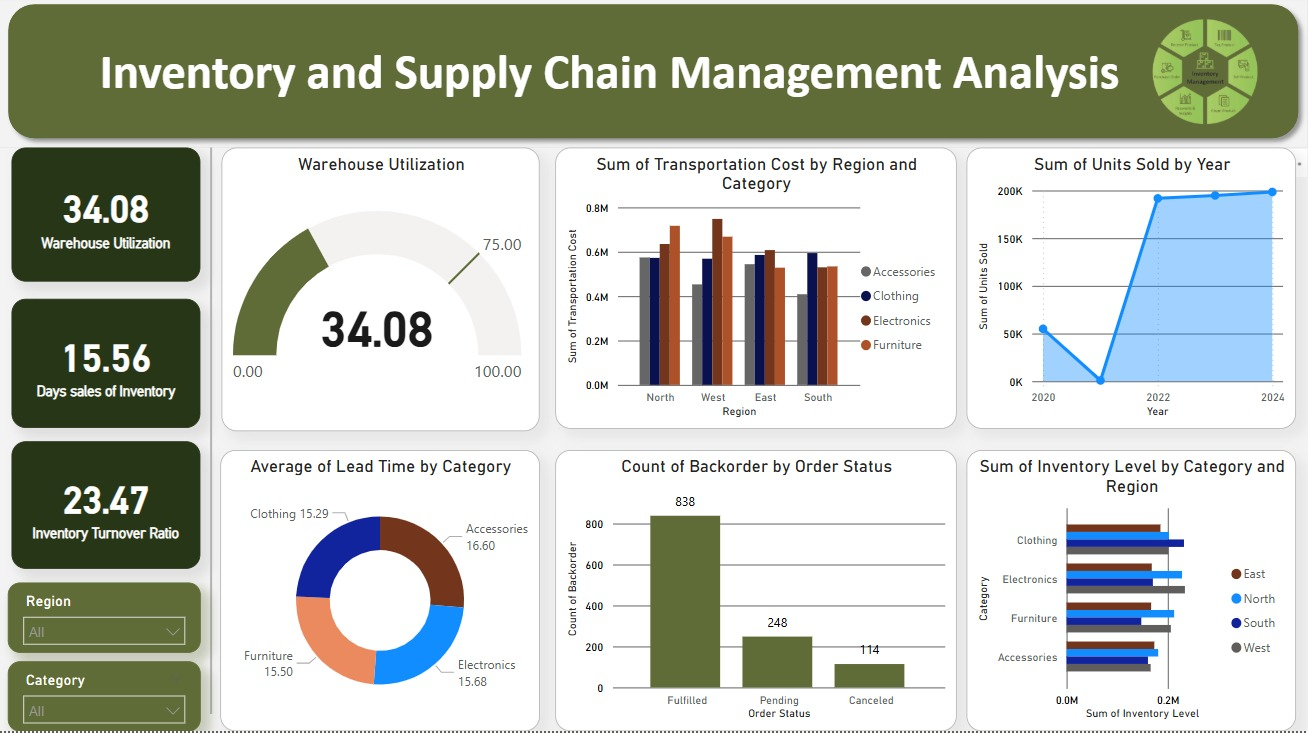

This screenshot's page, from the dashboard's own definition file:
{"tool":"powerbi","page":{"name":"Page 1","canvas":[1280,720],"ordinal":0},"visuals":[{"type":"shape","box":[0,0,1280.3,149.3],"z":0},{"type":"textbox","box":[12.1,40.3,1170,68.6],"z":1000},{"type":"image","box":[1079.9,0,200.4,149.3],"z":2000},{"type":"shape","box":[197.7,149.3,18.8,554.1],"z":3000},{"type":"card","fields":{"Values":["Inventory_SupplyChain_Dataset.Warehouse Utilization"]},"box":[12.5,148.8,185,131.2],"z":4000},{"type":"card","fields":{"Values":["Inventory_SupplyChain_Dataset.Days sales of Inventory"]},"box":[12.5,297.5,185,126.2],"z":5000},{"type":"card","fields":{"Values":["Inventory_SupplyChain_Dataset.Inventory Turnover Ratio"]},"box":[12.5,436.2,185,125],"z":6000},{"type":"slicer","fields":{"Values":["Inventory_SupplyChain_Dataset.Region"]},"box":[8.8,575,188.8,68.8],"z":7000},{"type":"slicer","fields":{"Values":["Inventory_SupplyChain_Dataset.Category"]},"box":[8.8,651.2,188.8,68.8],"z":8000},{"type":"gauge","fields":{"Y":["Inventory_SupplyChain_Dataset.Warehouse Utilization"]},"box":[217.5,148.8,311.2,277.5],"z":9000},{"type":"clusteredColumnChart","fields":{"Y":["Sum(Inventory_SupplyChain_Dataset.Transportation Cost)"],"Category":["Inventory_SupplyChain_Dataset.Region"],"Series":["Inventory_SupplyChain_Dataset.Category"]},"box":[543.8,148.8,392.5,275],"z":10000},{"type":"lineChart","fields":{"Y":["Sum(Inventory_SupplyChain_Dataset.Units Sold)"],"Category":["Inventory_SupplyChain_Dataset.Date.Variation.Date Hierarchy.Year"]},"box":[946.2,148.8,322.5,275],"z":11000},{"type":"donutChart","fields":{"Y":["Avg(Inventory_SupplyChain_Dataset.Lead Time)"],"Category":["Inventory_SupplyChain_Dataset.Category"]},"box":[216.2,445,312.5,275],"z":12000},{"type":"columnChart","fields":{"Y":["CountNonNull(Inventory_SupplyChain_Dataset.Backorder)"],"Category":["Inventory_SupplyChain_Dataset.Order Status"]},"box":[543.8,445,392.5,275],"z":13000},{"type":"clusteredBarChart","fields":{"Y":["Sum(Inventory_SupplyChain_Dataset.Inventory Level)"],"Category":["Inventory_SupplyChain_Dataset.Category"],"Series":["Inventory_SupplyChain_Dataset.Region"]},"box":[946.2,445,322.5,275],"z":13001}]}

Visuals, with their boxes in screenshot pixels (x1, y1, x2, y2), scaled from the page's 1280x720 canvas onto the 1308x733 screenshot:
shape: Rect(0, 0, 1307, 152)
textbox: Rect(12, 41, 1208, 111)
image: Rect(1104, 0, 1307, 152)
shape: Rect(202, 152, 221, 716)
card - Inventory_SupplyChain_Dataset.Warehouse Utilization: Rect(13, 151, 202, 285)
card - Inventory_SupplyChain_Dataset.Days sales of Inventory: Rect(13, 303, 202, 431)
card - Inventory_SupplyChain_Dataset.Inventory Turnover Ratio: Rect(13, 444, 202, 571)
slicer - Inventory_SupplyChain_Dataset.Region: Rect(9, 585, 202, 655)
slicer - Inventory_SupplyChain_Dataset.Category: Rect(9, 663, 202, 732)
gauge - Inventory_SupplyChain_Dataset.Warehouse Utilization: Rect(222, 151, 540, 434)
clusteredColumnChart - Sum(Inventory_SupplyChain_Dataset.Transportation Cost) x Inventory_SupplyChain_Dataset.Region: Rect(556, 151, 957, 431)
lineChart - Sum(Inventory_SupplyChain_Dataset.Units Sold) x Inventory_SupplyChain_Dataset.Date.Variation.Date Hierarchy.Year: Rect(967, 151, 1296, 431)
donutChart - Avg(Inventory_SupplyChain_Dataset.Lead Time) x Inventory_SupplyChain_Dataset.Category: Rect(221, 453, 540, 732)
columnChart - CountNonNull(Inventory_SupplyChain_Dataset.Backorder) x Inventory_SupplyChain_Dataset.Order Status: Rect(556, 453, 957, 732)
clusteredBarChart - Sum(Inventory_SupplyChain_Dataset.Inventory Level) x Inventory_SupplyChain_Dataset.Category: Rect(967, 453, 1296, 732)
